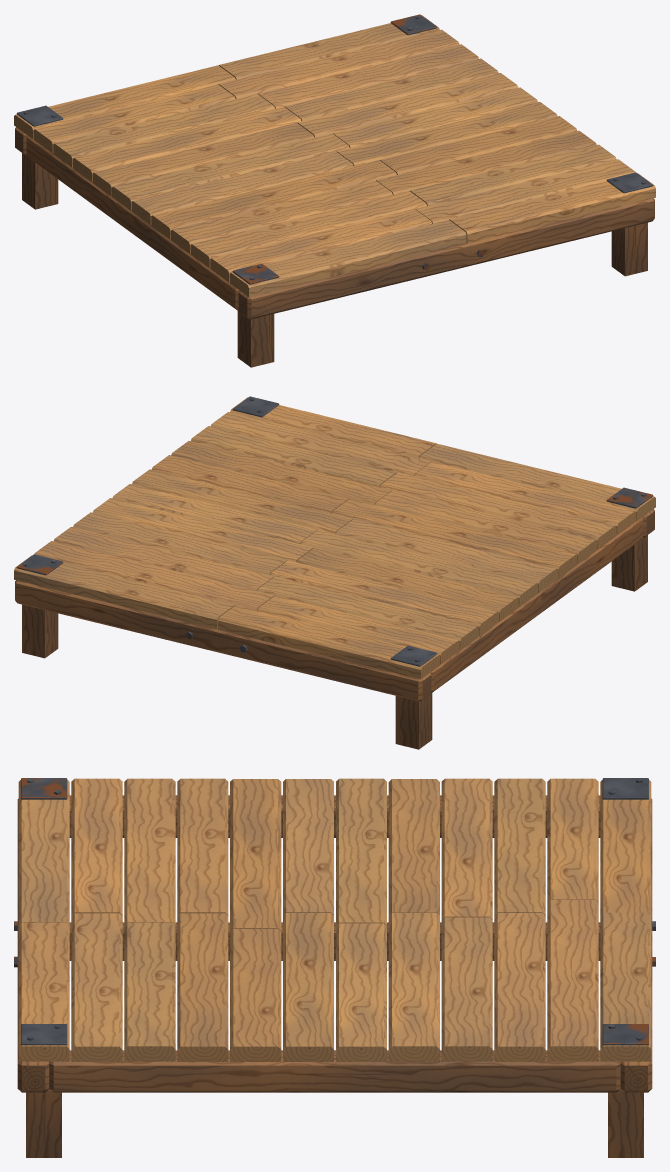
File: makine_platformu_orta.glb
The picture shows the model from 3 angles, top to bottom: view 1: azimuth 30°, elevation 25°; view 2: azimuth 150°, elevation 25°; view 3: azimuth 270°, elevation 25°; orthographic projection. The views are drawn at different scales.
Visible parts, largest first — view 1: makine_platformu_orta; view 2: makine_platformu_orta; view 3: makine_platformu_orta.
Boxes of the visible parts, x1,y1,x2,y2 form: makine_platformu_orta: (14, 14, 655, 367); makine_platformu_orta: (14, 396, 655, 749); makine_platformu_orta: (14, 778, 655, 1157).
Size of the model in its own units: 6 by 1.24 by 6.07.
1 material, 1 textured.
